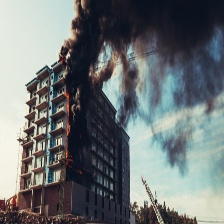fire: (63, 93, 73, 167)
smoke: (69, 1, 223, 168)
